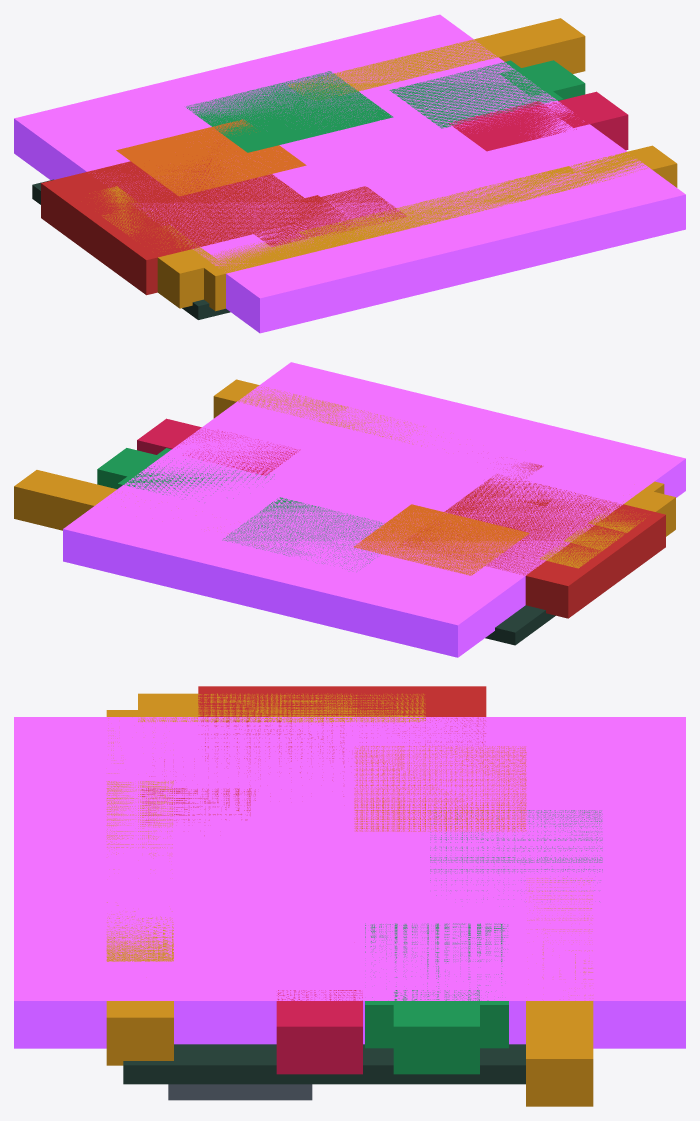
File: BeeBoard_v0_1_Micro_before_u1_shrink.glb
3 renders of one model, top to bottom at view 1: azimuth 30°, elevation 25°; view 2: azimuth 150°, elevation 25°; view 3: azimuth 270°, elevation 25°, orthographic. The views are drawn at different scales.
Parts seen in each view (by area): view 1: =>[0:1:1:3], =>[0:1:1:9], =>[0:1:1:7], =>[0:1:1:25], =>[0:1:1:5], =>[0:1:1:13], =>[0:1:1:29], =>[0:1:1:11] (×2), =>[0:1:1:27], =>[0:1:1:31] (×2), =>[0:1:1:23] (×2), =>[0:1:1:15] (+3 smaller); view 2: =>[0:1:1:3], =>[0:1:1:9], =>[0:1:1:5], =>[0:1:1:25], =>[0:1:1:7], =>[0:1:1:23] (×3), =>[0:1:1:31], =>[0:1:1:19], =>[0:1:1:32], =>[0:1:1:17], =>[0:1:1:13], =>[0:1:1:15]; view 3: =>[0:1:1:3], =>[0:1:1:32], =>[0:1:1:9], =>[0:1:1:25], =>[0:1:1:23] (×3), =>[0:1:1:17], =>[0:1:1:19], =>[0:1:1:5], =>[0:1:1:31] (×2), =>[0:1:1:13], =>[0:1:1:21], =>[0:1:1:7] (+2 smaller).
Part boxes in pixels (x1,y1,x2,y2): =>[0:1:1:3]: (14,14,685,333); =>[0:1:1:9]: (41,143,328,295); =>[0:1:1:7]: (186,71,393,152); =>[0:1:1:25]: (288,18,585,99); =>[0:1:1:5]: (116,119,306,196); =>[0:1:1:13]: (389,60,563,128); =>[0:1:1:29]: (198,198,469,311); =>[0:1:1:11] (×2): (251,186,406,246); =>[0:1:1:27]: (298,182,564,245); =>[0:1:1:31] (×2): (450,145,677,213); =>[0:1:1:23] (×2): (89,186,221,308); =>[0:1:1:15]: (449,101,576,151); =>[0:1:1:3]: (63,362,685,657); =>[0:1:1:9]: (400,474,665,618); =>[0:1:1:5]: (353,504,529,575); =>[0:1:1:25]: (14,470,255,545); =>[0:1:1:7]: (222,497,382,569); =>[0:1:1:23] (×3): (539,492,675,568); =>[0:1:1:31]: (213,379,348,421); =>[0:1:1:19]: (97,448,161,489); =>[0:1:1:32]: (485,605,555,645); =>[0:1:1:17]: (137,418,213,454); =>[0:1:1:13]: (117,448,274,501); =>[0:1:1:15]: (183,430,300,475); =>[0:1:1:3]: (14,717,685,1048); =>[0:1:1:32]: (123,1044,525,1084); =>[0:1:1:9]: (198,686,486,802); =>[0:1:1:25]: (526,878,593,1106); =>[0:1:1:23] (×3): (138,693,425,722); =>[0:1:1:17]: (276,990,362,1074); =>[0:1:1:19]: (393,990,479,1074); =>[0:1:1:5]: (354,746,526,831); =>[0:1:1:31] (×2): (106,905,173,1065); =>[0:1:1:13]: (365,923,508,1048); =>[0:1:1:21]: (168,1084,312,1100); =>[0:1:1:7]: (430,810,602,901).
Size of the model in its own units: 0.0233 by 0.00309 by 0.0178.
